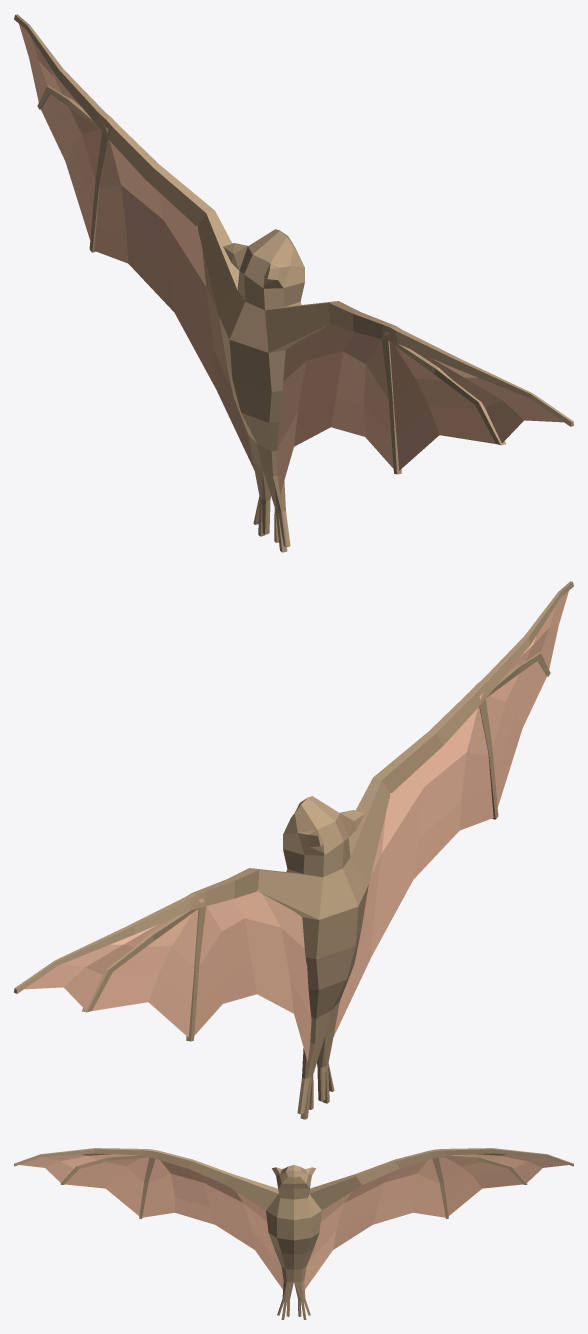
File: Manley_Bat_NoRig.fbx
The picture shows the model from 3 angles, top to bottom: view 1: azimuth 30°, elevation 25°; view 2: azimuth 150°, elevation 25°; view 3: azimuth 270°, elevation 25°; orthographic projection. The views are drawn at different scales.
Visible parts, largest first — view 1: Bat_SpreadWings; view 2: Bat_SpreadWings; view 3: Bat_SpreadWings.
Part boxes in pixels (<box>): Bat_SpreadWings: <box>14,14,573,552</box>; Bat_SpreadWings: <box>14,581,573,1119</box>; Bat_SpreadWings: <box>14,1148,573,1319</box>.
Bounding box in the file's own units: 2.58 × 10.63 × 32.25.
